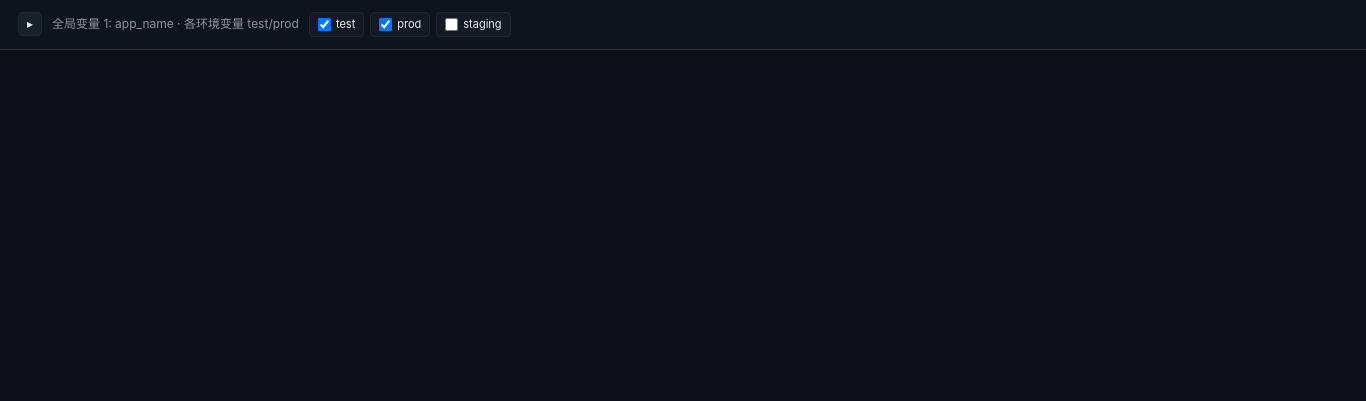
Test case: PipelineEnvMatrix › renders one column per environment
Step 1. Click the button with test id "env-matrix-toggle" → click(30, 24), box [18,12,42,36]
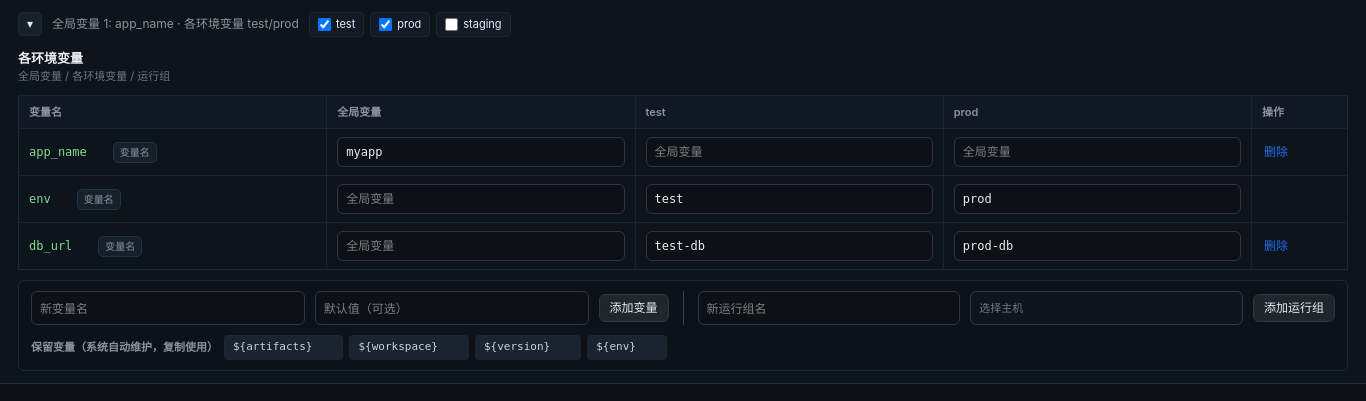
Expected: the column heading with test id "env-col-test" reads "test", [646,104,666,118]
Expected: the column heading with test id "env-col-prod" reads "prod", [954,104,978,118]
